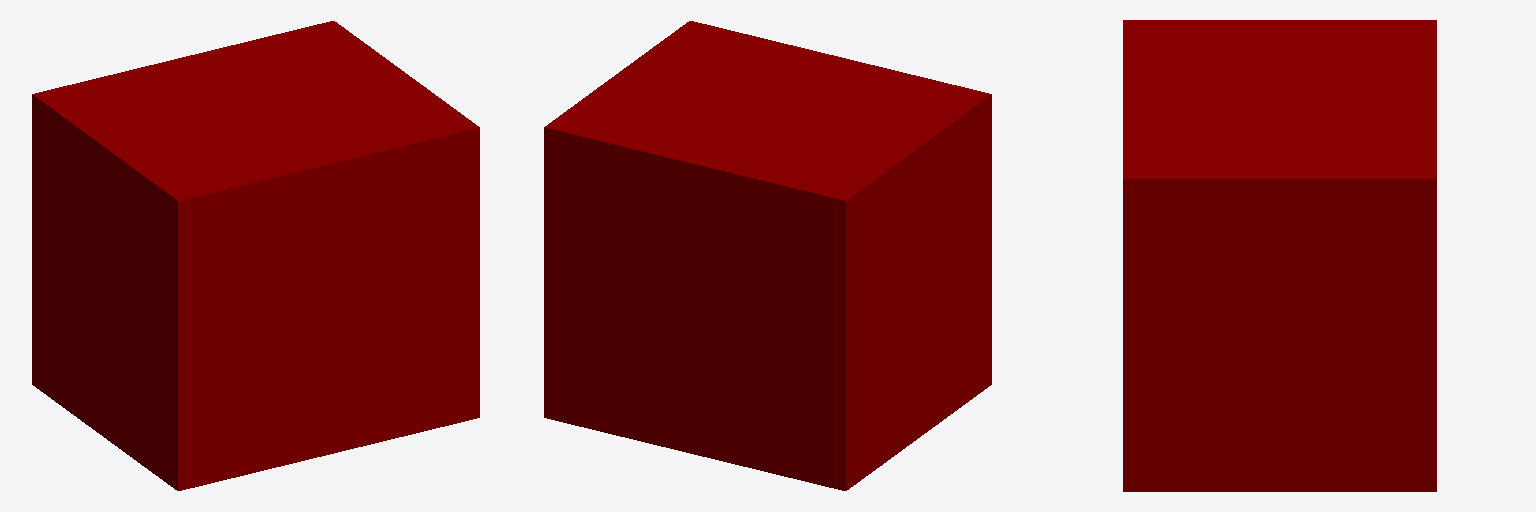
The robot description file, URDF, robot "truth_d6":
<?xml version="1.0" ?>
<robot name="truth_d6"
  xmlns:drake="https://drake.mit.edu/">
    <link name="cube">
        <inertial>
            <origin xyz="0 0 0" rpy="0 0 0"/>
            <mass value="0.5" />
            <inertia
                ixx="0.5"
                ixy="0"
                ixz="0"
                iyy="0.5"
                iyz="0"
                izz="0.5"/>
        </inertial>
        <visual>
            <origin xyz="0 0 0" rpy="0 0 0" />
            <geometry>
                <mesh filename="meshes/dynamixel_box.obj"/>
            </geometry>
            <material name="pennred">
                <color rgba="0.6 0 0 1.0" />
            </material>
        </visual>
        <collision>
            <geometry>
                <mesh filename="meshes/dynamixel_box.obj"/>
            </geometry>
            <origin xyz="0 0 0" rpy="0 0 0" />
            <drake:proximity_properties>
                <drake:mu_static value="0.5" />
                <drake:rigid_hydroelastic />
                <drake:mesh_resolution_hint value="0.001" />
                <drake:point_contact_stiffness value="10800.0" />
                <drake:hunt_crossley_dissipation value="0.4" />
            </drake:proximity_properties>
        </collision>
    </link>
</robot>

--- Facts derived from the render (not from the file) ---
3 views of the same robot in one strip: view 1: azimuth 30°, elevation 25°; view 2: azimuth 150°, elevation 25°; view 3: azimuth 270°, elevation 25° (orthographic).
Robot: truth_d6 — 1 links, 0 joints (none); root link cube; default pose: every joint at zero.
Visible links, largest first — view 1: cube; view 2: cube; view 3: cube.
Link boxes in pixels (<box>): cube: <box>32,21,479,490</box>; cube: <box>544,21,991,490</box>; cube: <box>1123,20,1436,491</box>.
Size in the robot's own frame: 0.0587 by 0.0492 by 0.054 metres.
Meshes: 1 distinct files referenced, 1 mesh visuals loaded (1 OBJ).
